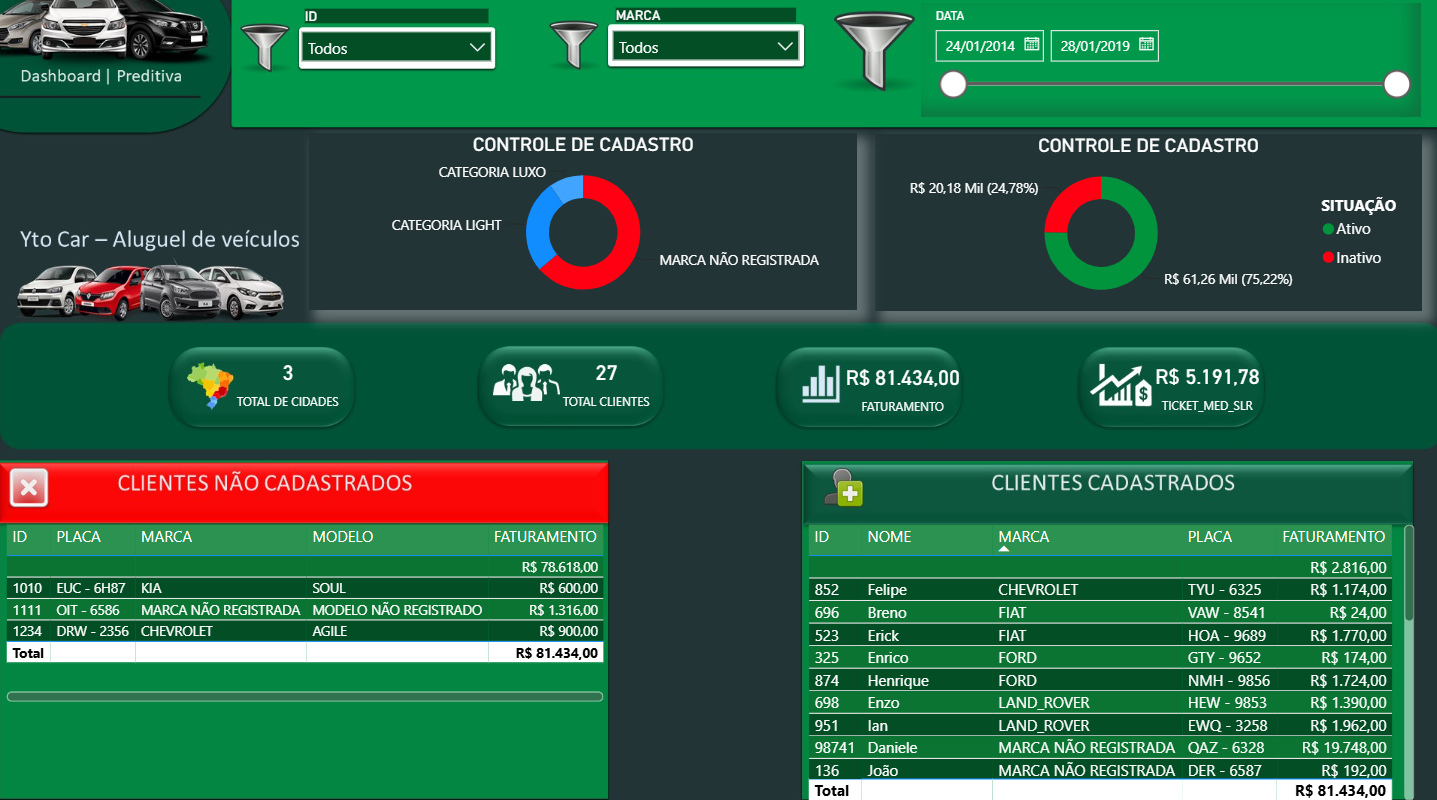

Layout of this report page (visuals, bound fields, positions):
{"tool":"powerbi","page":{"name":"CLIENTES","canvas":[1280,720],"ordinal":2},"visuals":[{"type":"card","fields":{"Values":["MEDIDAS.TT_CIDADES"]},"box":[186.7,303.3,141.7,80],"z":0},{"type":"card","fields":{"Values":["Count(tb_cli.ID)"]},"box":[461.7,311.7,156.7,63.3],"z":1000},{"type":"card","fields":{"Values":["MEDIDAS.FATURAMENTO"]},"box":[730,311.7,146.7,71.7],"z":2000},{"type":"card","fields":{"Values":["MEDIDAS.TICKET_MED_SLR"]},"box":[981.7,308.3,183.3,75],"z":3000},{"type":"donutChart","title":"CONTROLE DE CADASTRO","fields":{"Category":["tb_km.SITUAÇÃO"],"Y":["MEDIDAS.FATURAMENTO"]},"box":[778.3,123.3,485,156.7],"z":4000},{"type":"donutChart","title":"CONTROLE DE CADASTRO","fields":{"Y":["MEDIDAS.FATURAMENTO"],"Category":["tb_km.CATEGORIAS"]},"box":[277,122.6,486.2,157.3],"z":5000},{"type":"slicer","fields":{"Values":["tb_cli.ID"]},"box":[259.7,7.2,189,59.2],"z":6000},{"type":"slicer","fields":{"Values":["tb_km.MARCA"]},"box":[535.3,5.8,186.1,59.2],"z":7000},{"type":"slicer","fields":{"Values":["tb_km.DATA"]},"box":[819.5,7.2,442.9,101],"z":8000},{"type":"tableEx","fields":{"Values":["INNER JOIN.tb_cli.ID","INNER JOIN.tb_cli.NOME","INNER JOIN.MARCA","INNER JOIN.PLACA","MEDIDAS.FATURAMENTO"]},"box":[714.2,464.6,548.2,255.4],"z":9000},{"type":"tableEx","fields":{"Values":["ANT LEFT.ID_CLIENTE","ANT LEFT.PLACA","ANT LEFT.MARCA","ANT LEFT.MODELO","MEDIDAS.FATURAMENTO"]},"box":[2.9,464.6,539.6,167.4],"z":10001}]}

Visuals, with their boxes in screenshot pixels (x1, y1, x2, y2), scaled from the page's 1280x720 canvas onto the 1437x800 screenshot:
card - MEDIDAS.TT_CIDADES: {"x1": 210, "y1": 337, "x2": 369, "y2": 426}
card - Count(tb_cli.ID): {"x1": 518, "y1": 346, "x2": 694, "y2": 417}
card - MEDIDAS.FATURAMENTO: {"x1": 820, "y1": 346, "x2": 984, "y2": 426}
card - MEDIDAS.TICKET_MED_SLR: {"x1": 1102, "y1": 343, "x2": 1308, "y2": 426}
"CONTROLE DE CADASTRO" donutChart: {"x1": 874, "y1": 137, "x2": 1418, "y2": 311}
"CONTROLE DE CADASTRO" donutChart: {"x1": 311, "y1": 136, "x2": 857, "y2": 311}
slicer - tb_cli.ID: {"x1": 292, "y1": 8, "x2": 504, "y2": 74}
slicer - tb_km.MARCA: {"x1": 601, "y1": 6, "x2": 810, "y2": 72}
slicer - tb_km.DATA: {"x1": 920, "y1": 8, "x2": 1417, "y2": 120}
tableEx - INNER JOIN.tb_cli.ID x INNER JOIN.tb_cli.NOME: {"x1": 802, "y1": 516, "x2": 1417, "y2": 799}
tableEx - ANT LEFT.ID_CLIENTE x ANT LEFT.PLACA: {"x1": 3, "y1": 516, "x2": 609, "y2": 702}
